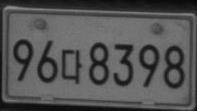3: (112, 42, 134, 87)
6: (36, 39, 58, 83)
8: (87, 41, 110, 86), (163, 44, 186, 89)
9: (138, 43, 160, 88), (12, 38, 34, 82)
다: (60, 48, 83, 84)
